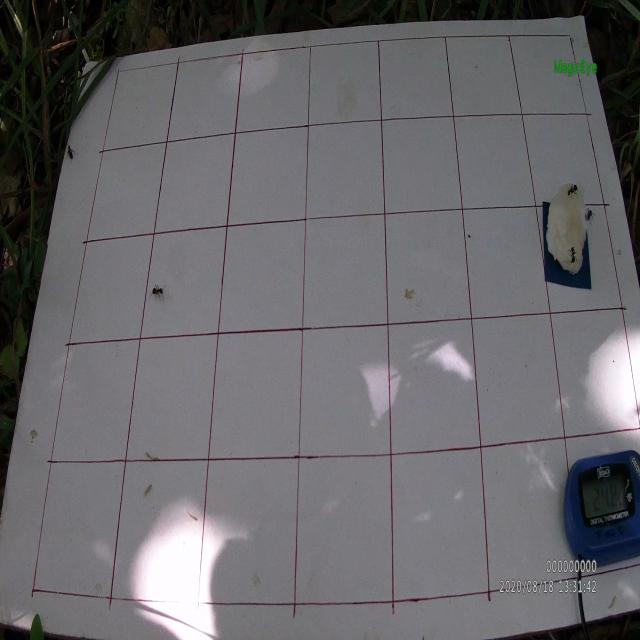Ant: (149, 283, 168, 302), (66, 139, 78, 164), (567, 242, 578, 265), (566, 182, 580, 200), (584, 206, 596, 225)
